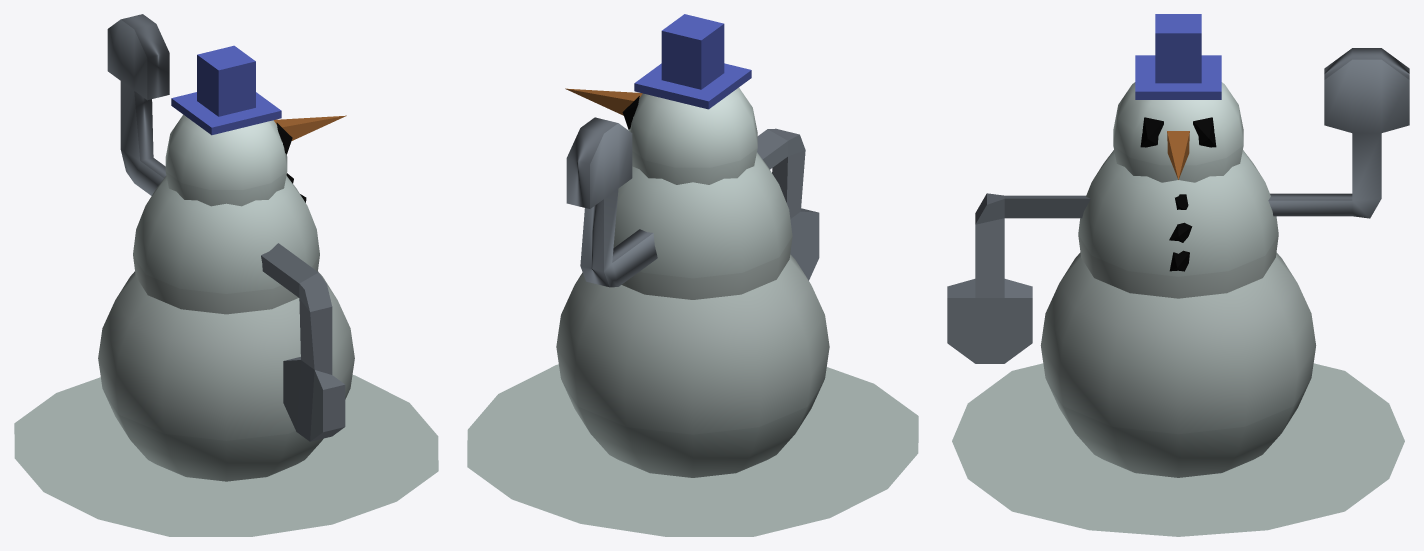
The model's file is snowman tower.fbx.
3 renders of one model, left to right at view 1: azimuth 30°, elevation 25°; view 2: azimuth 150°, elevation 25°; view 3: azimuth 270°, elevation 25°, orthographic. The views are drawn at different scales.
Visible parts, largest first — view 1: Cube.181, Cube.179, Cube.180; view 2: Cube.181, Cube.180, Cube.179; view 3: Cube.181, Cube.180, Cube.179.
Boxes of the visible parts, bbox=[...] form: Cube.181: bbox=[14, 45, 438, 536]; Cube.179: bbox=[261, 243, 345, 441]; Cube.180: bbox=[107, 14, 169, 195]; Cube.181: bbox=[467, 14, 918, 536]; Cube.180: bbox=[566, 117, 657, 287]; Cube.179: bbox=[757, 128, 819, 280]; Cube.181: bbox=[952, 14, 1404, 536]; Cube.180: bbox=[1268, 48, 1409, 218]; Cube.179: bbox=[947, 193, 1090, 363].
Size of the model in its own units: 117 by 122 by 119.
